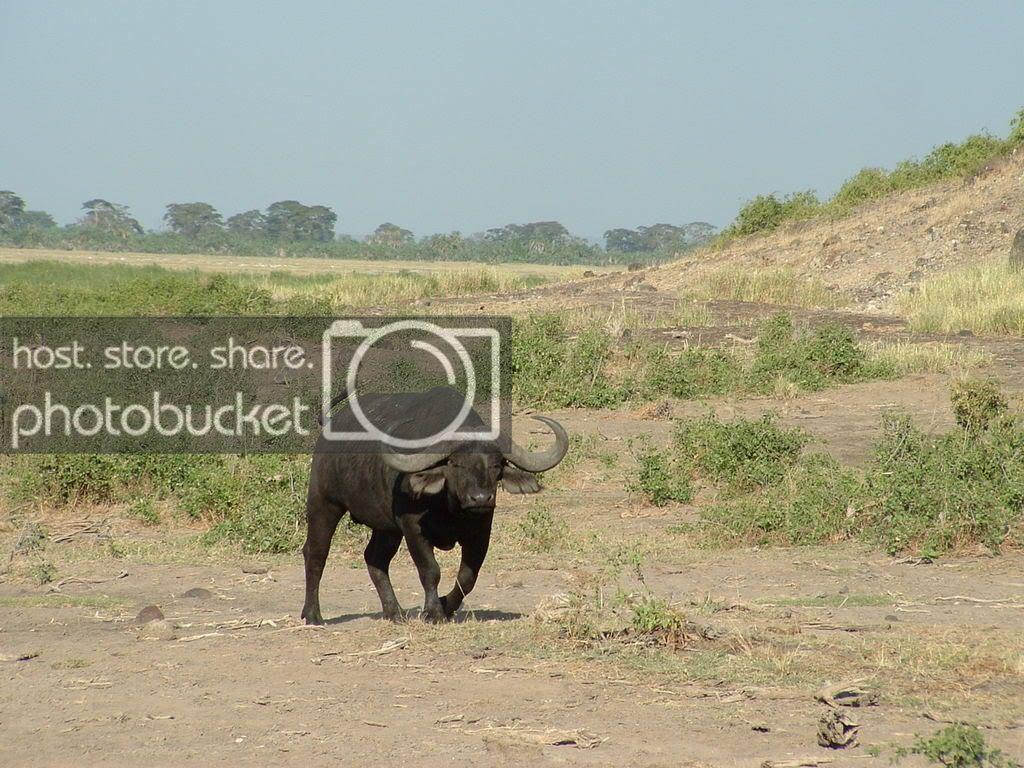Buffalo: (296, 411, 540, 613)
